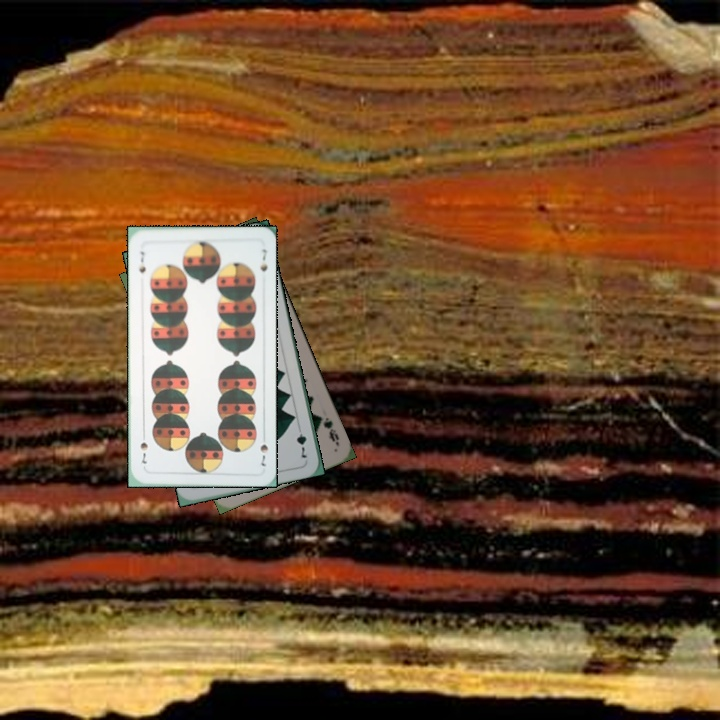G7: (292, 421, 310, 461)
G9: (319, 413, 342, 444)
S7: (256, 440, 270, 469), (135, 247, 148, 275)
